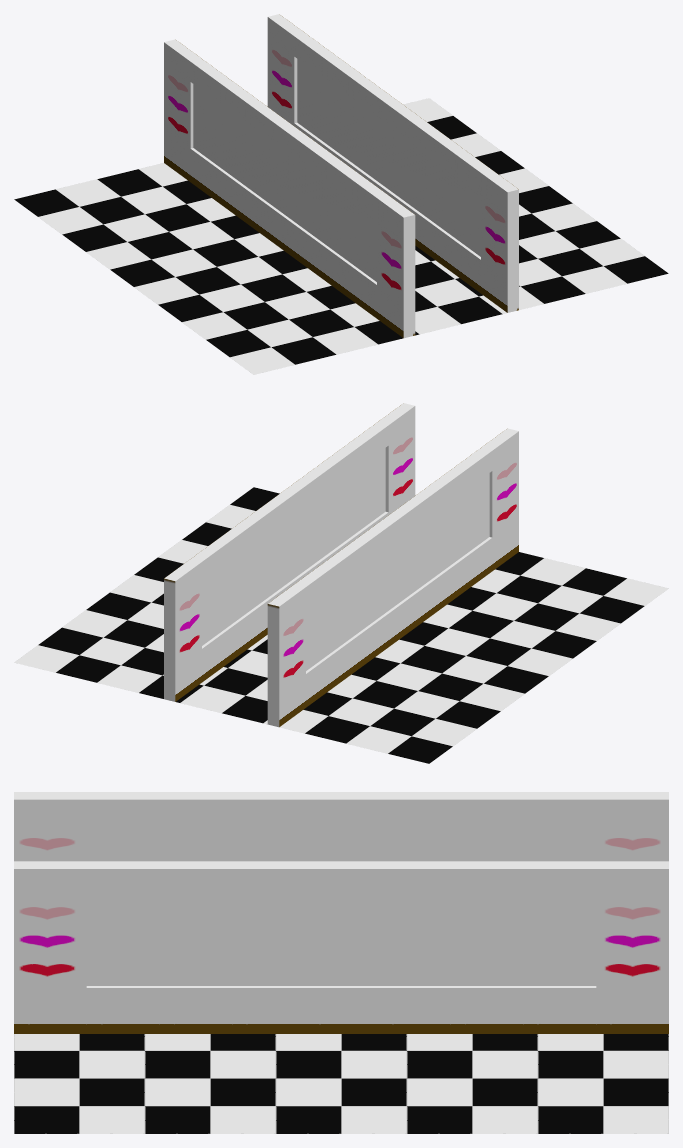
File: Tunagi2.fbx
3 renders of one model, top to bottom at view 1: azimuth 30°, elevation 25°; view 2: azimuth 150°, elevation 25°; view 3: azimuth 270°, elevation 25°, orthographic. The views are drawn at different scales.
Visible parts, largest first — view 1: pPlane2, pCube7 (×2), pCube8 (×2); view 2: pPlane2, pCube7 (×2), pCube8 (×2); view 3: pCube7 (×2), pPlane2, pCube8 (×2).
Boxes of the visible parts, bbox=[...] form: pPlane2: bbox=[14, 98, 668, 374]; pCube7 (×2): bbox=[164, 14, 518, 338]; pCube8 (×2): bbox=[193, 59, 480, 281]; pPlane2: bbox=[14, 487, 668, 763]; pCube7 (×2): bbox=[164, 403, 518, 727]; pCube8 (×2): bbox=[202, 448, 489, 670]; pCube7 (×2): bbox=[14, 792, 668, 1033]; pPlane2: bbox=[14, 1034, 668, 1133]; pCube8 (×2): bbox=[86, 827, 596, 985].
Size of the model in its own units: 1800 by 500 by 1800.
3 materials, 2 textured.
